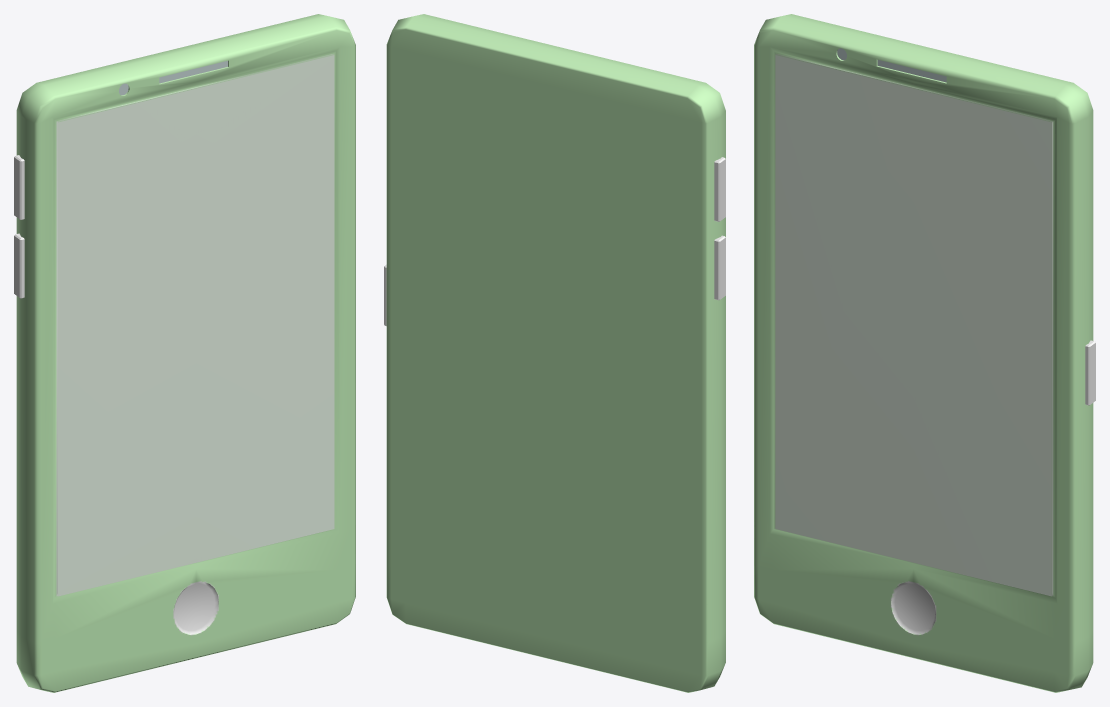
Rendered from k_smartphone.fbx.
3 renders of one model, left to right at view 1: azimuth 30°, elevation 25°; view 2: azimuth 150°, elevation 25°; view 3: azimuth 330°, elevation 25°, orthographic.
Parts seen in each view (by area): view 1: Komono_B_smartphone_m; view 2: Komono_B_smartphone_m; view 3: Komono_B_smartphone_m.
Boxes of the visible parts, left/top/right/bottom form: Komono_B_smartphone_m: left=14, top=14, right=355, bottom=692; Komono_B_smartphone_m: left=384, top=14, right=725, bottom=692; Komono_B_smartphone_m: left=754, top=14, right=1095, bottom=692.
Bounding box in the file's own units: 39.77 × 68.49 × 4.07.
